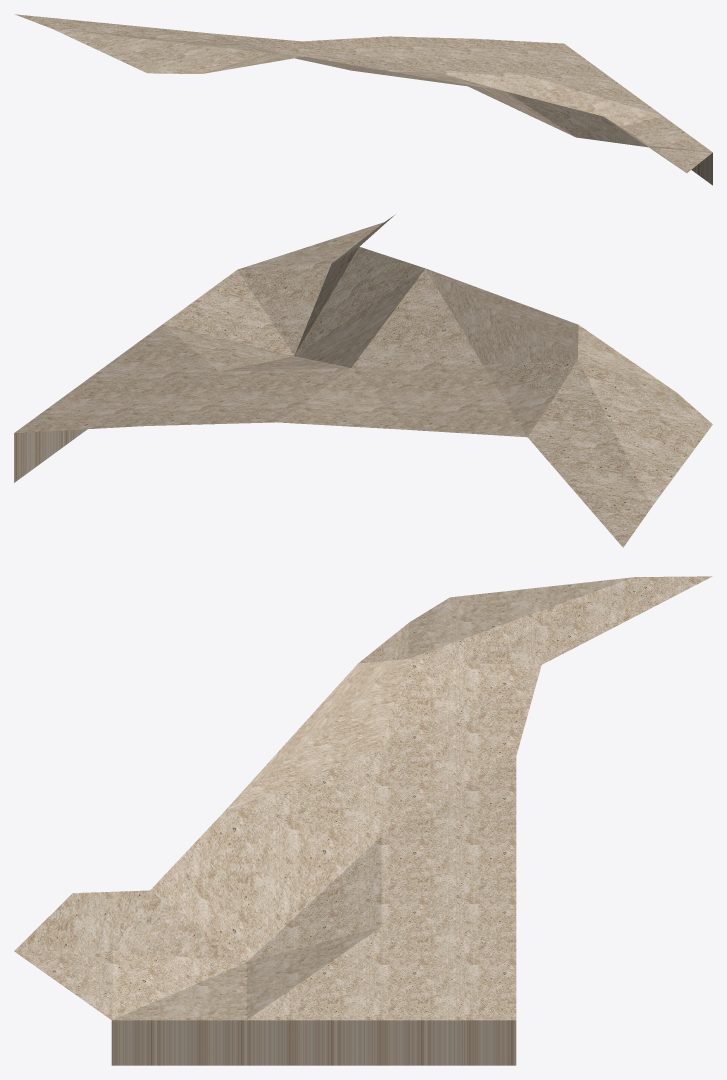
The model's file is sbcs_seabit11_new.obj.
3 views of the same model, one above another, from view 1: azimuth 30°, elevation 25°; view 2: azimuth 150°, elevation 25°; view 3: azimuth 270°, elevation 25° (orthographic). The views are drawn at different scales.
Parts seen in each view (by area): view 1: sbcs_seabit11_new; view 2: sbcs_seabit11_new; view 3: sbcs_seabit11_new.
Boxes of the visible parts, x1,y1,x2,y2 form: sbcs_seabit11_new: (15, 14, 712, 185); sbcs_seabit11_new: (14, 214, 712, 547); sbcs_seabit11_new: (14, 576, 712, 1065).
Size of the model in its own units: 250 by 70.2 by 233.
